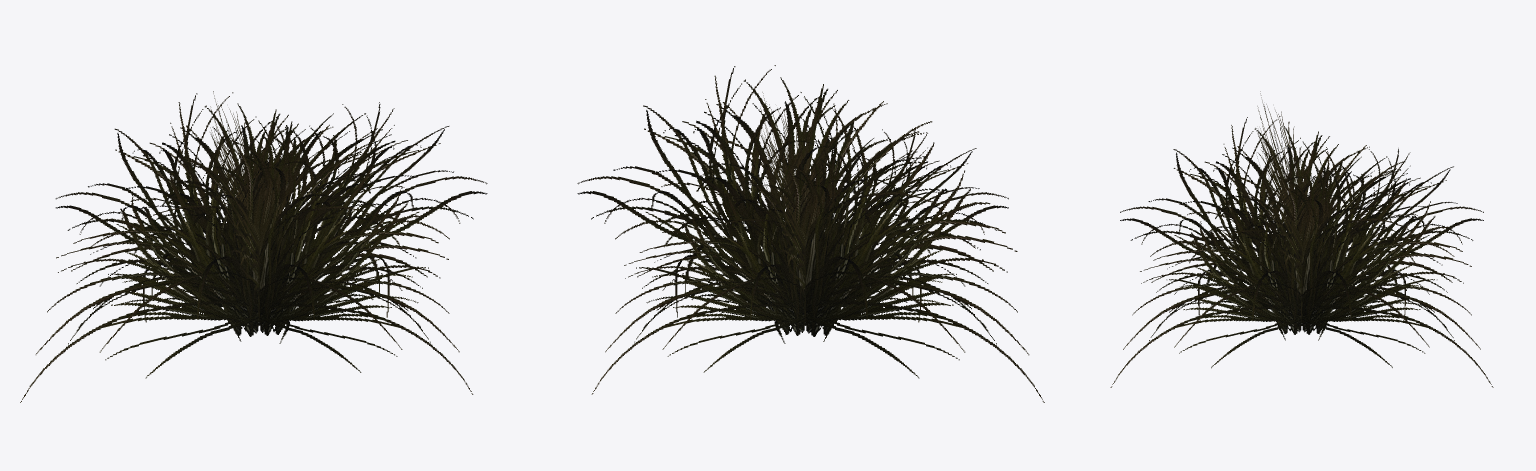
The model's file is grass_4.glb.
3 views of the same model, side by side, from view 1: azimuth 30°, elevation 25°; view 2: azimuth 150°, elevation 25°; view 3: azimuth 270°, elevation 25° (orthographic). The views are drawn at different scales.
Visible parts, largest first — view 1: grass_4; view 2: grass_4; view 3: grass_4.
Part boxes in pixels (box(x1,y1,x2,y2)): grass_4: box(20, 91, 487, 402); grass_4: box(577, 65, 1044, 402); grass_4: box(1110, 91, 1493, 387).
Bounding box in the file's own units: 1.12 × 0.5593 × 0.9188.
Materials: 1 (1 with a texture image).
